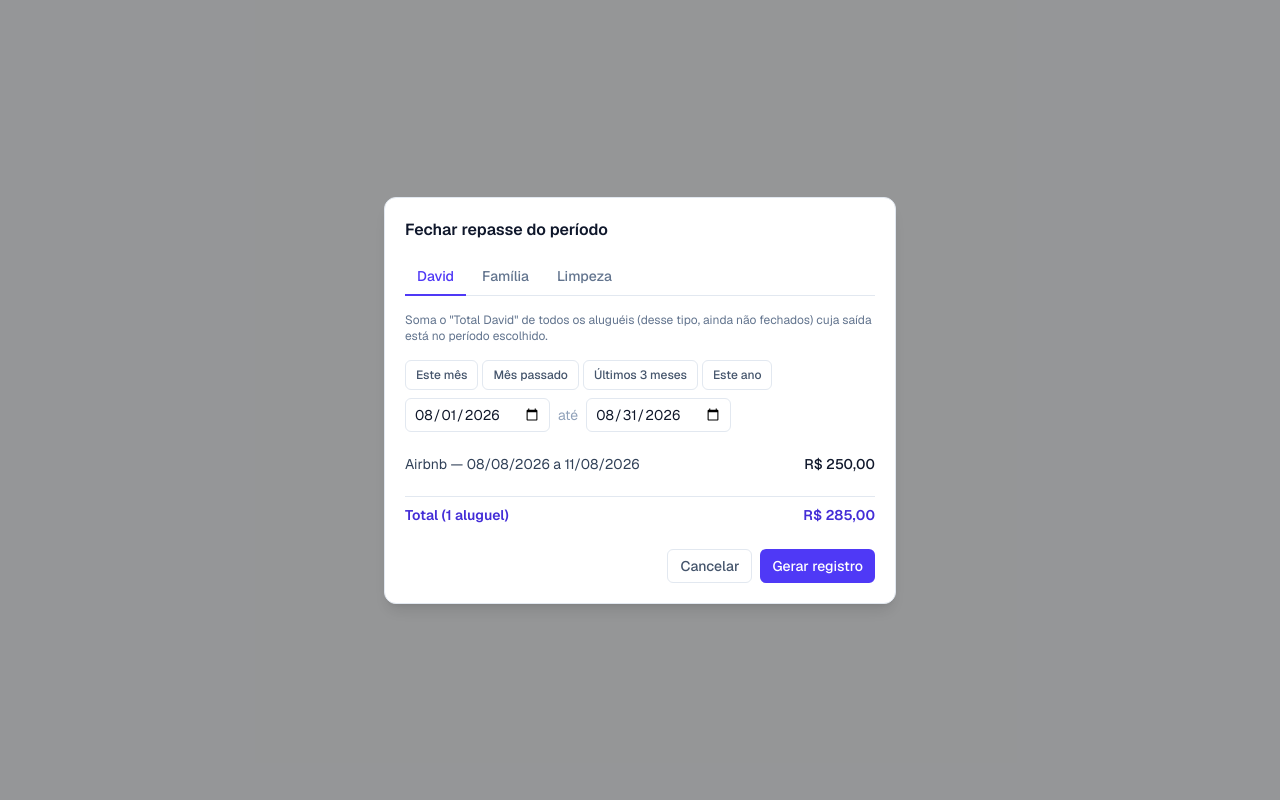
Test: SettlementModal — gerar o repasse › mostra o rótulo Família no resultado quando é esse o tipo
Expected: the text "Airbnb — 08/08/2026 a 11/08/2026" is shown, x1=405 y1=454 x2=640 y2=474
Step 1. Click the button "Família" → (506, 276), box x1=470 y1=258 x2=541 y2=296
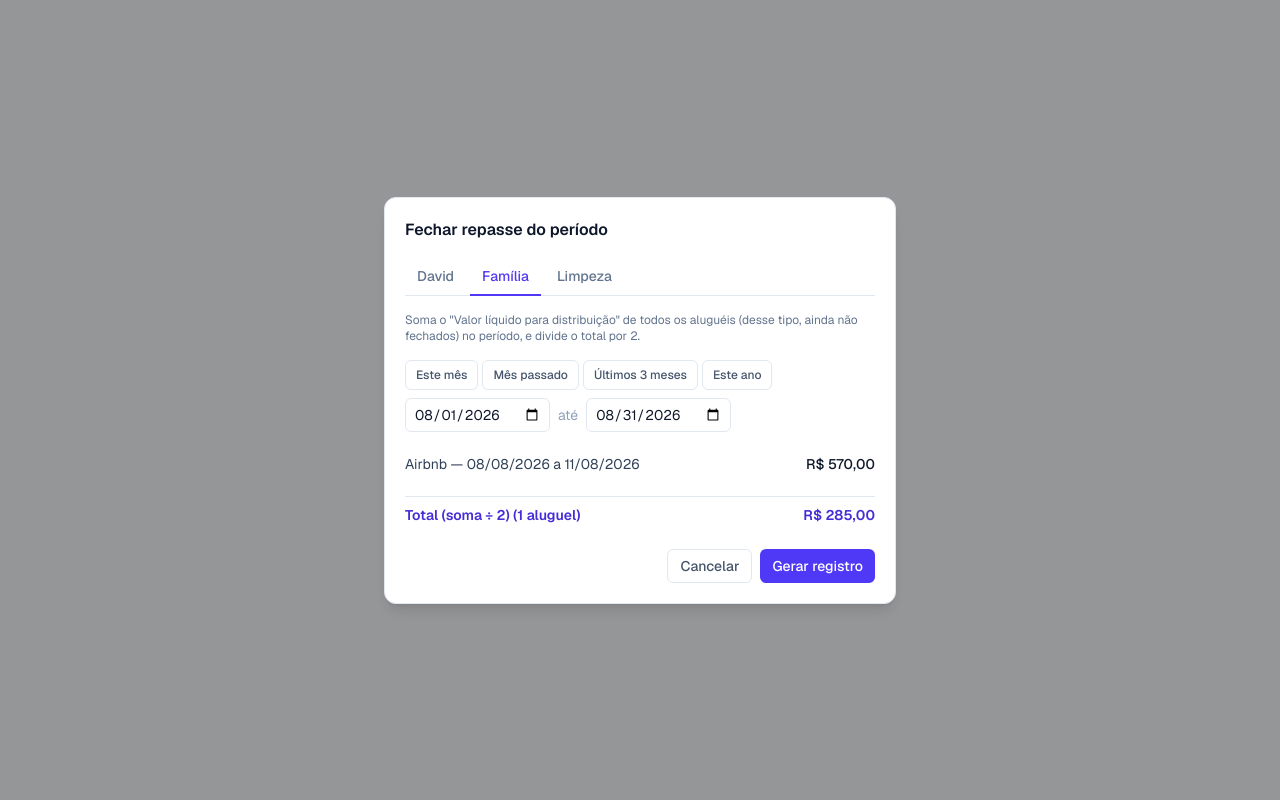
Expected: the text "Total (soma ÷ 2) (1 aluguel)" is shown, x1=405 y1=504 x2=580 y2=524
Step 2. Click the button "Gerar registro" → (818, 566), box x1=760 y1=548 x2=875 y2=582
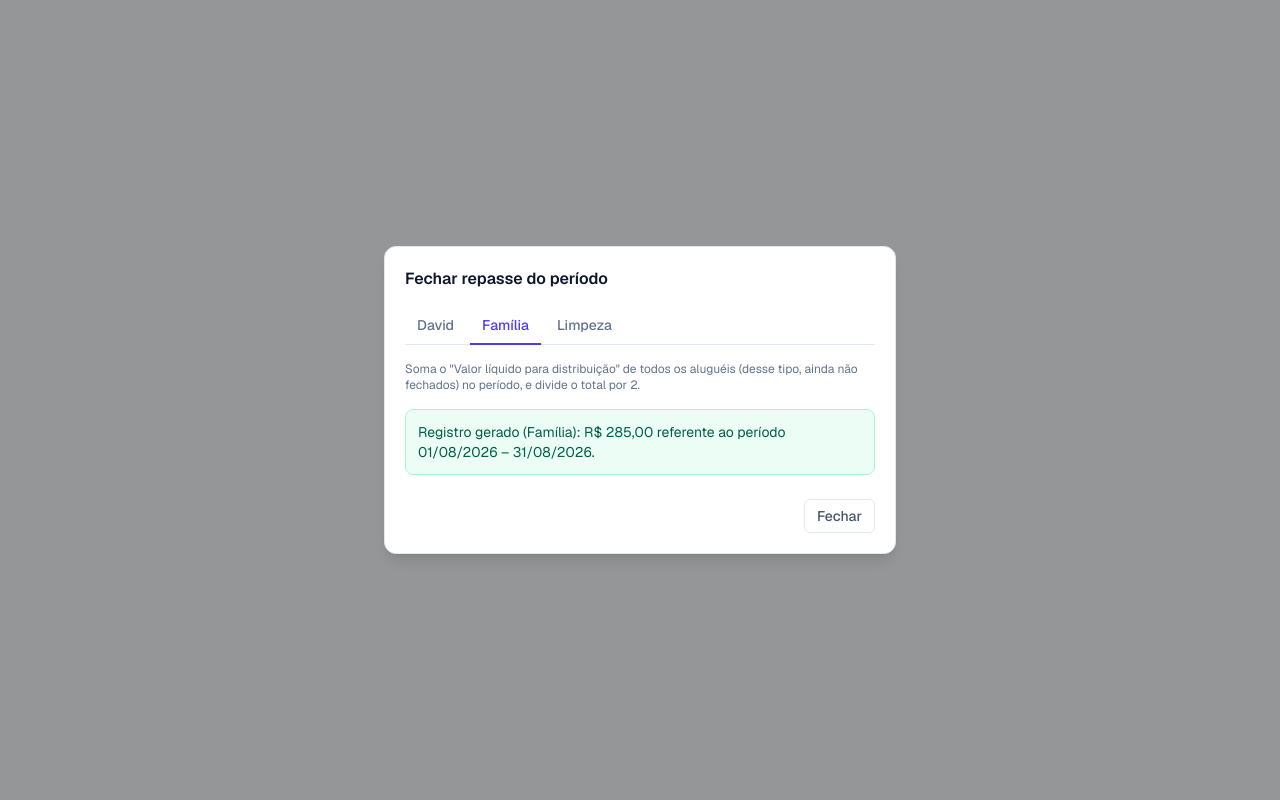
Expected: the text "Registro gerado (Família)" is shown, x1=405 y1=409 x2=875 y2=475
